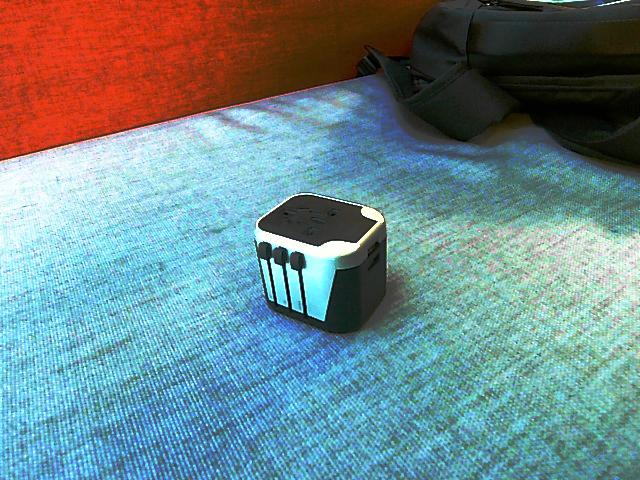adapter: (252, 192, 388, 334)
